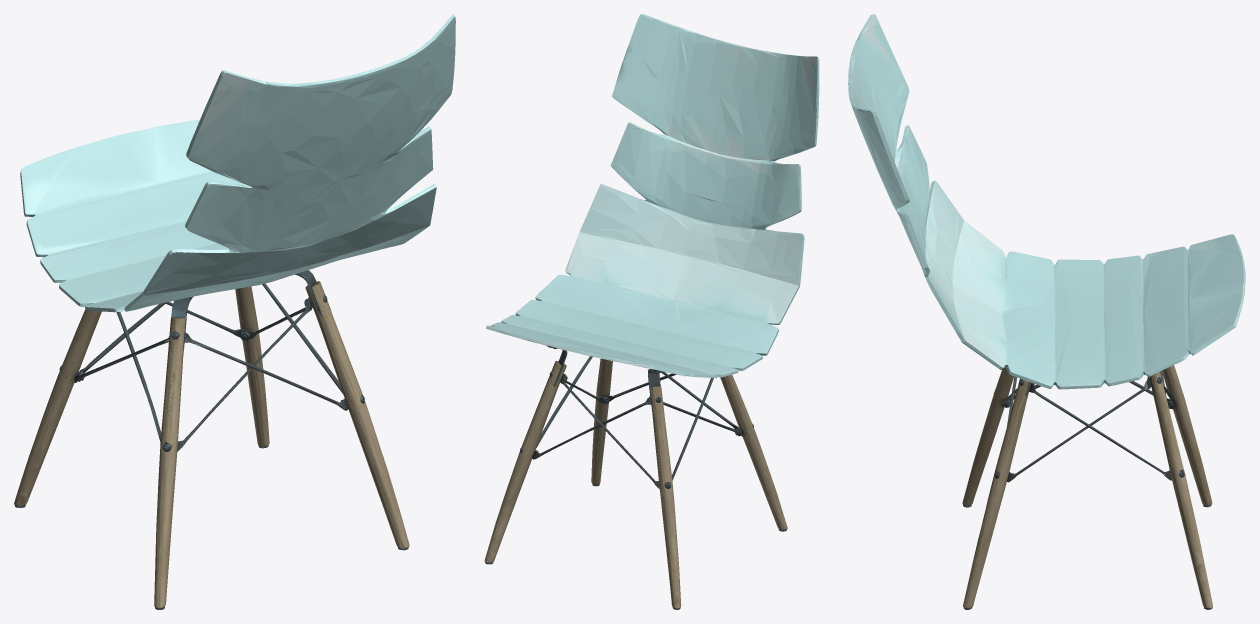
File: 3df_lounge_chair.glb
3 views of the same model, side by side, from view 1: azimuth 30°, elevation 25°; view 2: azimuth 150°, elevation 25°; view 3: azimuth 270°, elevation 25° (orthographic). The views are drawn at different scales.
Parts seen in each view (by area): view 1: Chair_4a2a6bb3-4789-4816-aaaa-3e77244a8da5_5.obj; view 2: Chair_4a2a6bb3-4789-4816-aaaa-3e77244a8da5_5.obj; view 3: Chair_4a2a6bb3-4789-4816-aaaa-3e77244a8da5_5.obj.
Part boxes in pixels (box(x1,y1,x2,y2)): Chair_4a2a6bb3-4789-4816-aaaa-3e77244a8da5_5.obj: box(14, 14, 455, 609); Chair_4a2a6bb3-4789-4816-aaaa-3e77244a8da5_5.obj: box(484, 14, 819, 609); Chair_4a2a6bb3-4789-4816-aaaa-3e77244a8da5_5.obj: box(848, 14, 1245, 609).
Size of the model in its own units: 0.3375 by 0.6141 by 0.4466.
Materials: 1 (1 with a texture image).
